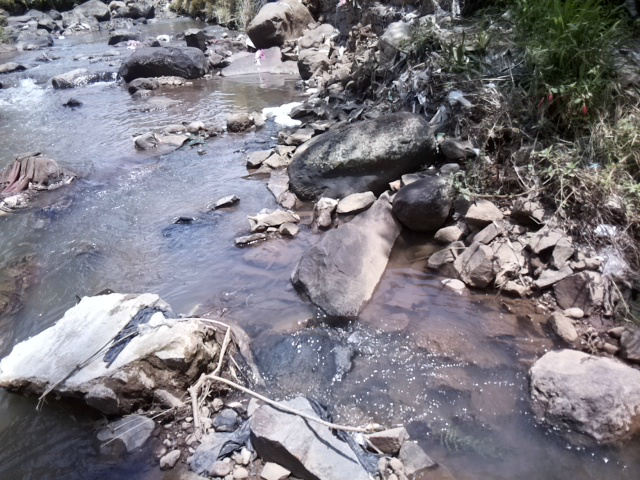Sampah_Plastik: (103, 302, 159, 372)
